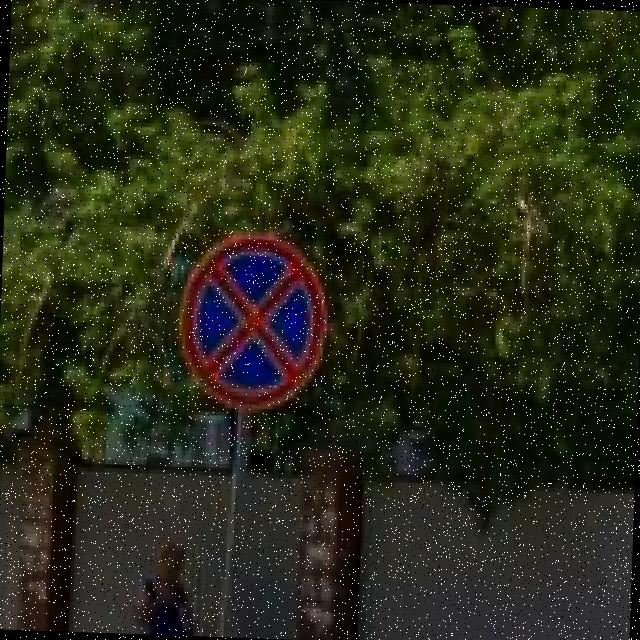Zakaz zatrzymywania sie: (176, 228, 330, 414)
